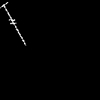treble_crochet: (2, 2, 24, 43)
